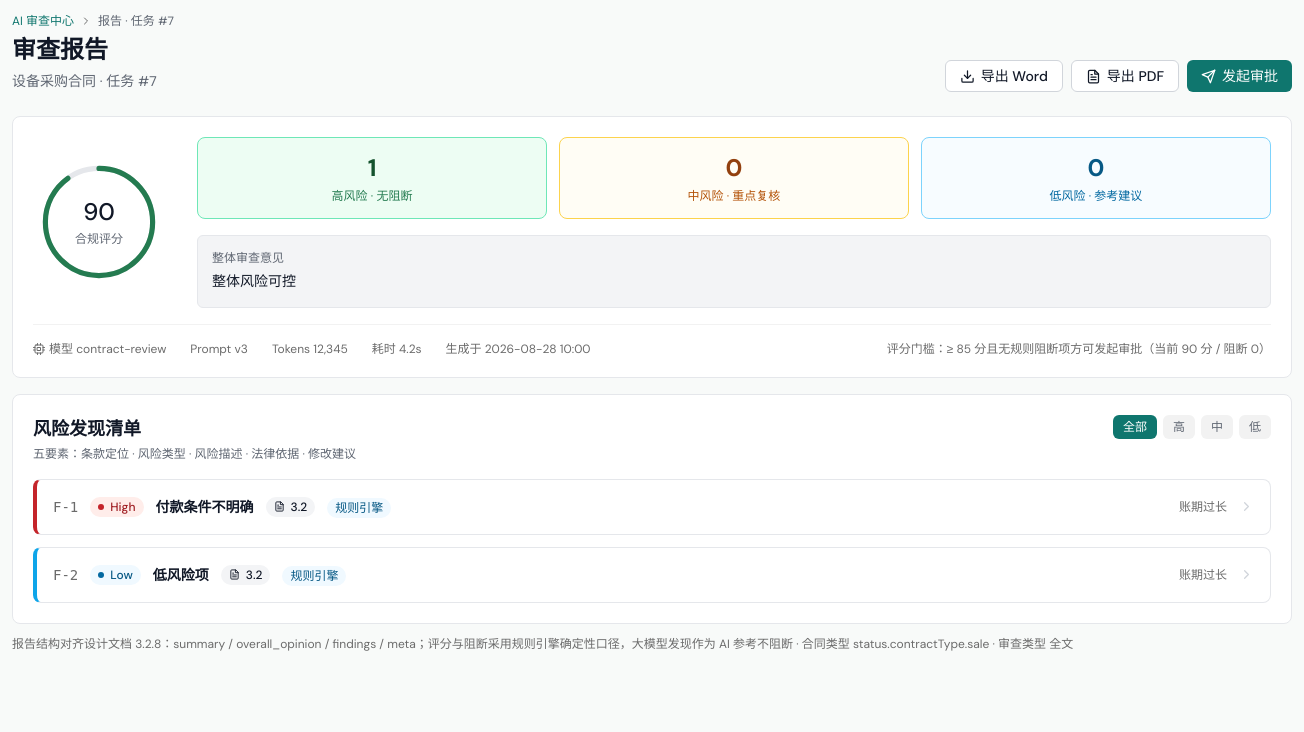
Test case: ReviewReportView 风险处置 › 按等级筛选风险条目
Click the button "低". click: {"x": 1255, "y": 427}
box: [1239,415,1271,439]
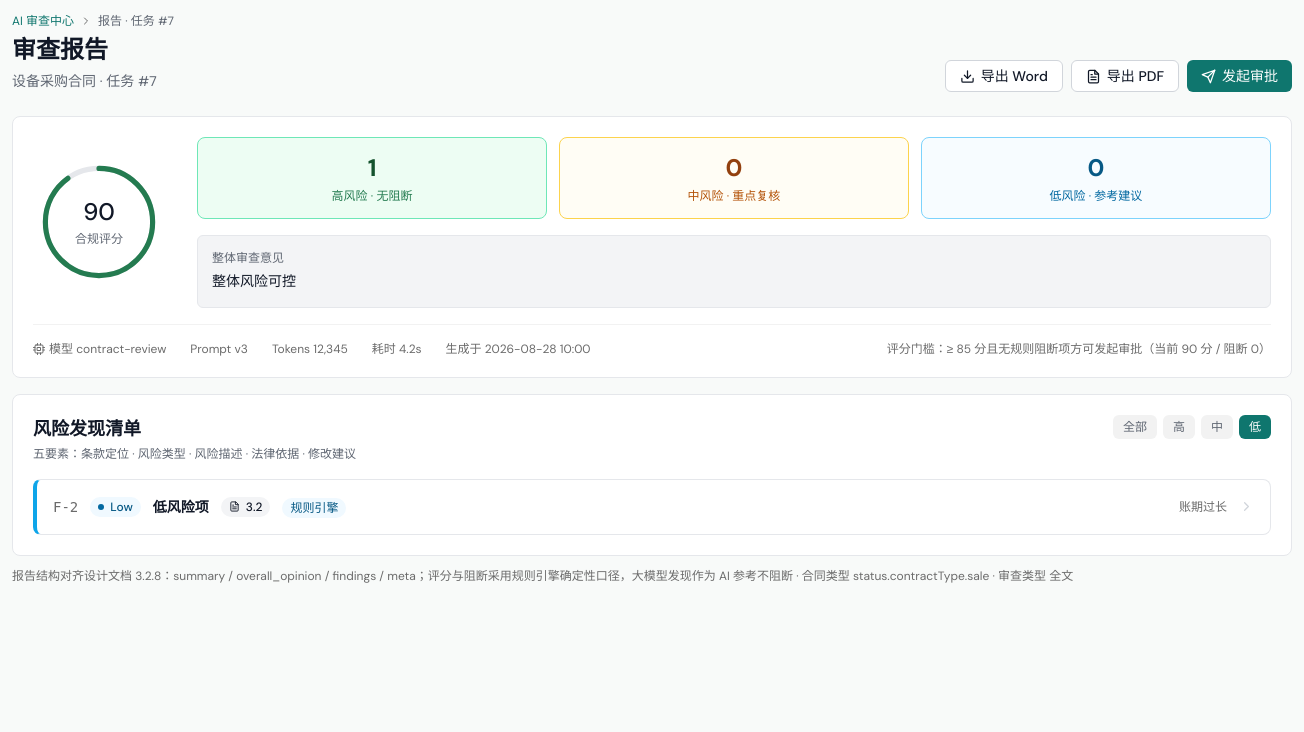
expect the text "低风险项" is shown: met, box [153,497,209,517]
expect the text "付款条件不明确" is gone: met
